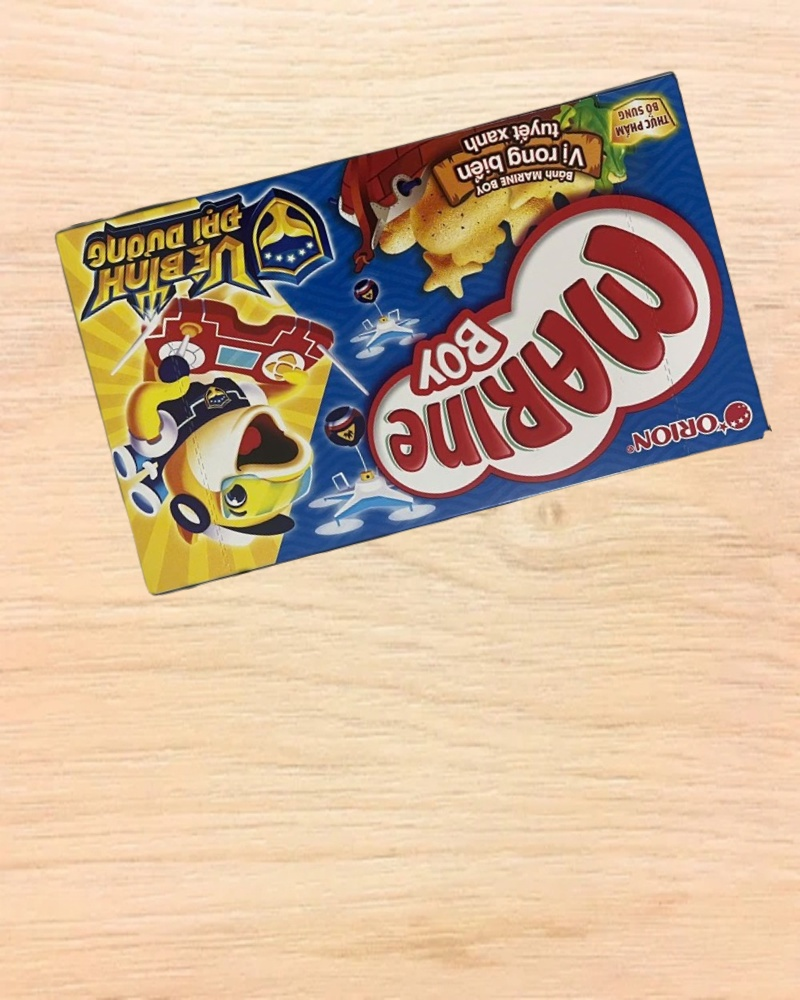Marine: (51, 66, 773, 602)
